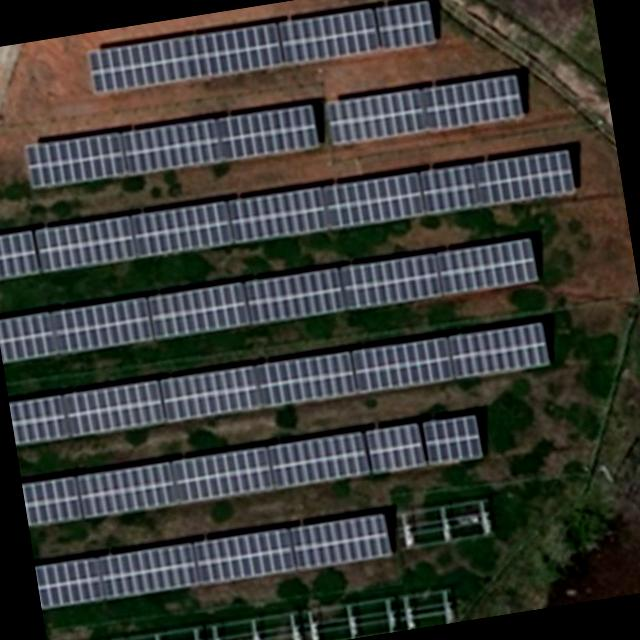solar: (85, 15, 287, 96), (434, 234, 544, 302), (276, 2, 384, 70), (417, 69, 526, 134), (471, 144, 580, 209), (340, 248, 446, 314), (214, 100, 323, 164), (24, 126, 128, 192), (242, 261, 347, 326), (289, 510, 395, 573), (119, 114, 223, 178), (96, 538, 200, 602), (322, 170, 429, 232), (446, 320, 553, 382), (61, 377, 166, 440), (192, 523, 297, 586), (266, 428, 372, 490), (350, 334, 454, 397), (254, 349, 358, 412), (169, 443, 273, 506), (129, 198, 235, 259), (49, 294, 154, 354), (158, 362, 261, 423), (145, 280, 249, 340), (324, 85, 426, 146), (76, 458, 176, 520), (227, 184, 329, 244), (35, 214, 136, 272), (34, 554, 104, 610), (375, 0, 442, 56), (422, 410, 486, 468), (364, 418, 428, 474), (22, 473, 84, 527), (420, 161, 480, 215), (11, 392, 68, 446), (0, 310, 55, 362), (0, 229, 41, 284)
